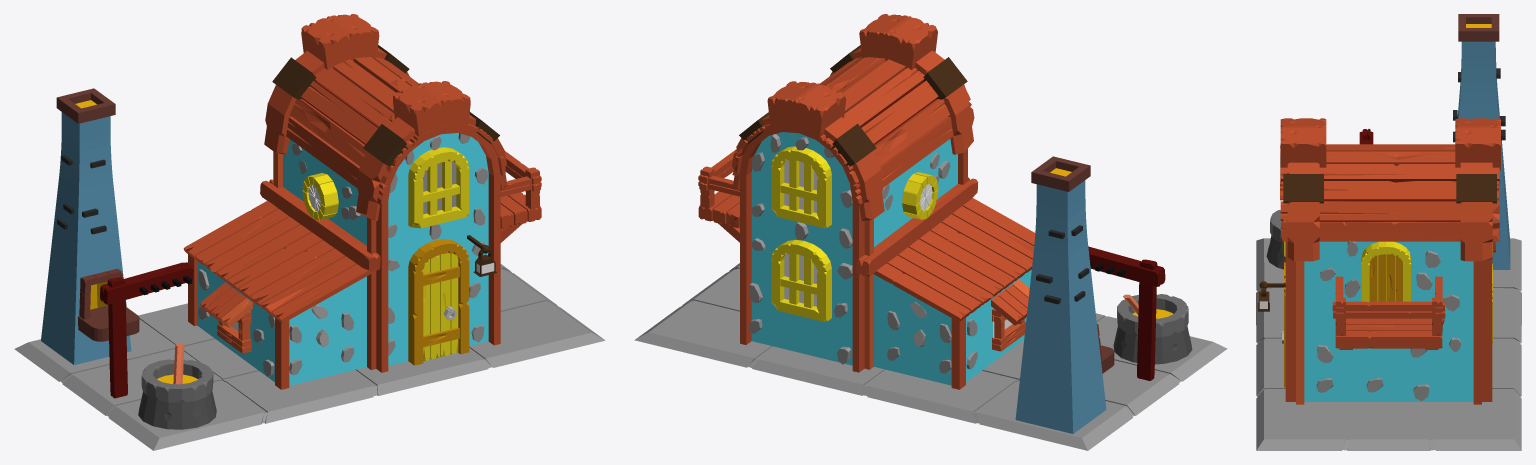
File: Ferraria.fbx
3 renders of one model, left to right at view 1: azimuth 30°, elevation 25°; view 2: azimuth 150°, elevation 25°; view 3: azimuth 270°, elevation 25°, orthographic. The views are drawn at different scales.
Parts seen in each view (by area): view 1: Ferraria, Forno, Caldeirao, Suporte-ferramentas; view 2: Ferraria, Forno, Caldeirao, Suporte-ferramentas; view 3: Ferraria, Forno, Caldeirao.
Boxes of the visible parts, left/top/right/bottom form: Ferraria: left=14, top=14, right=605, bottom=450; Forno: left=41, top=88, right=139, bottom=365; Caldeirao: left=138, top=343, right=216, bottom=429; Suporte-ferramentas: left=100, top=262, right=193, bottom=398; Ferraria: left=634, top=14, right=1227, bottom=450; Forno: left=1015, top=156, right=1114, bottom=433; Caldeirao: left=1113, top=294, right=1192, bottom=364; Suporte-ferramentas: left=1088, top=246, right=1165, bottom=380; Ferraria: left=1256, top=118, right=1521, bottom=450; Forno: left=1453, top=14, right=1510, bottom=269; Caldeirao: left=1266, top=210, right=1285, bottom=269.
Bounding box in the file's own units: 950 × 536 × 507.
